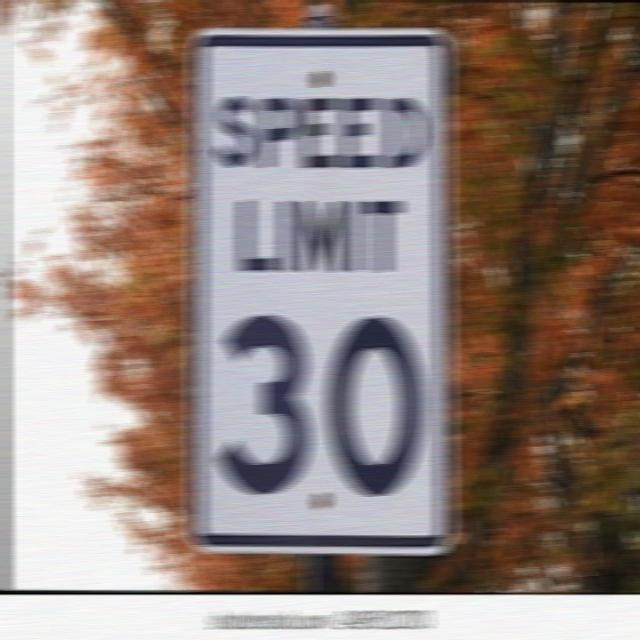speedLimit30: (185, 23, 456, 555)
